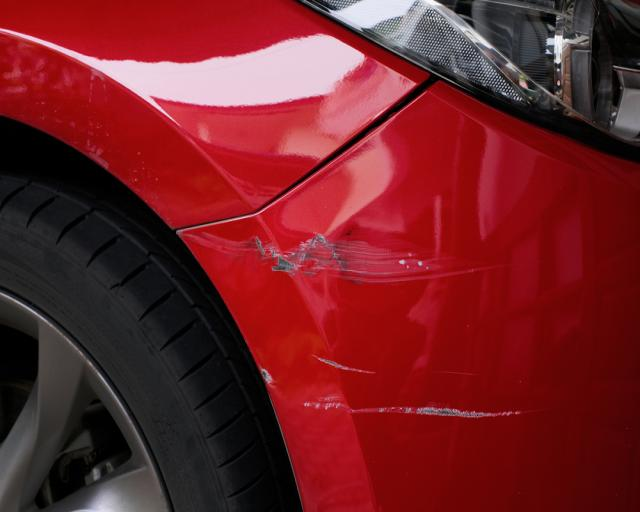scratch: (189, 226, 548, 290), (259, 352, 564, 423)
